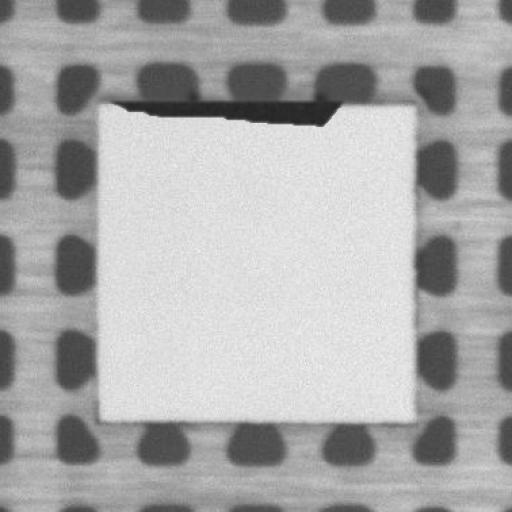DIE_BROKEN: (108, 95, 344, 131)
